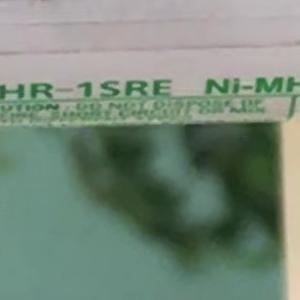keyword: (196, 68, 292, 103)
